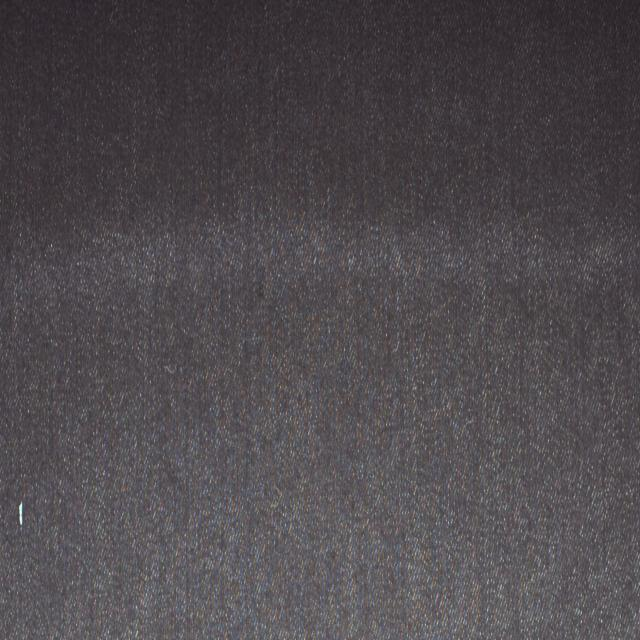Knot: (17, 503, 22, 528)
